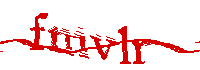f: (30, 11, 46, 53)
l: (118, 24, 132, 65)
m: (49, 25, 89, 58)
r: (130, 37, 150, 65)
v: (91, 30, 119, 61)
